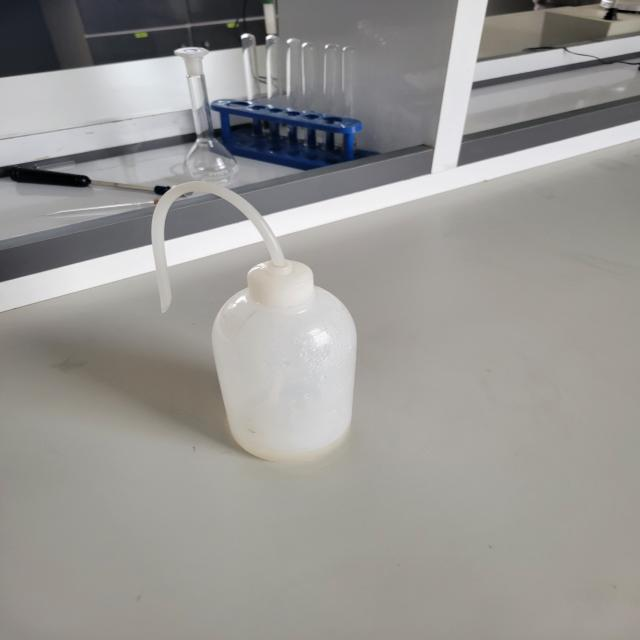Wash_Bottle: (115, 120, 380, 500)
